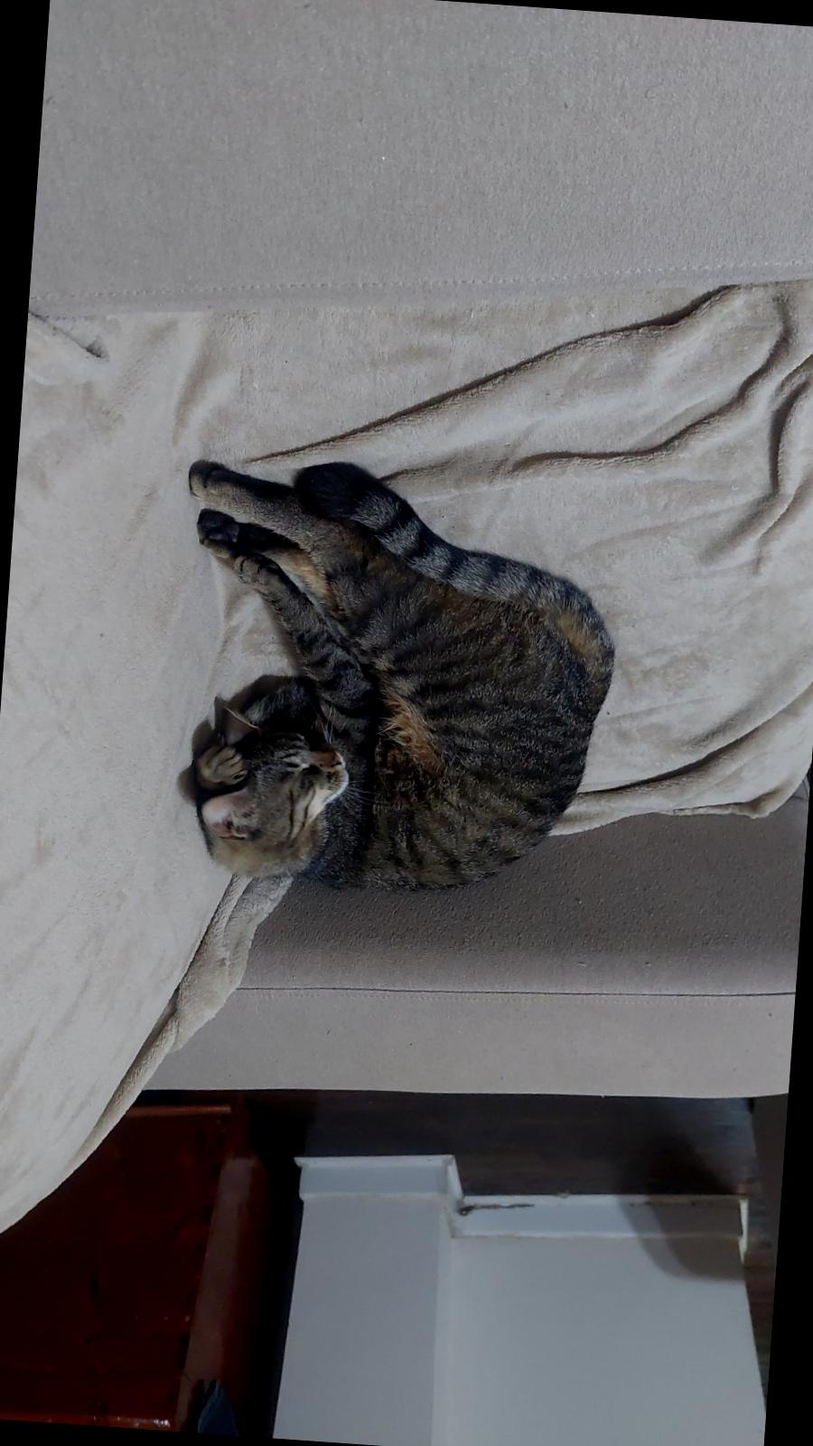macka: (158, 451, 624, 907)
